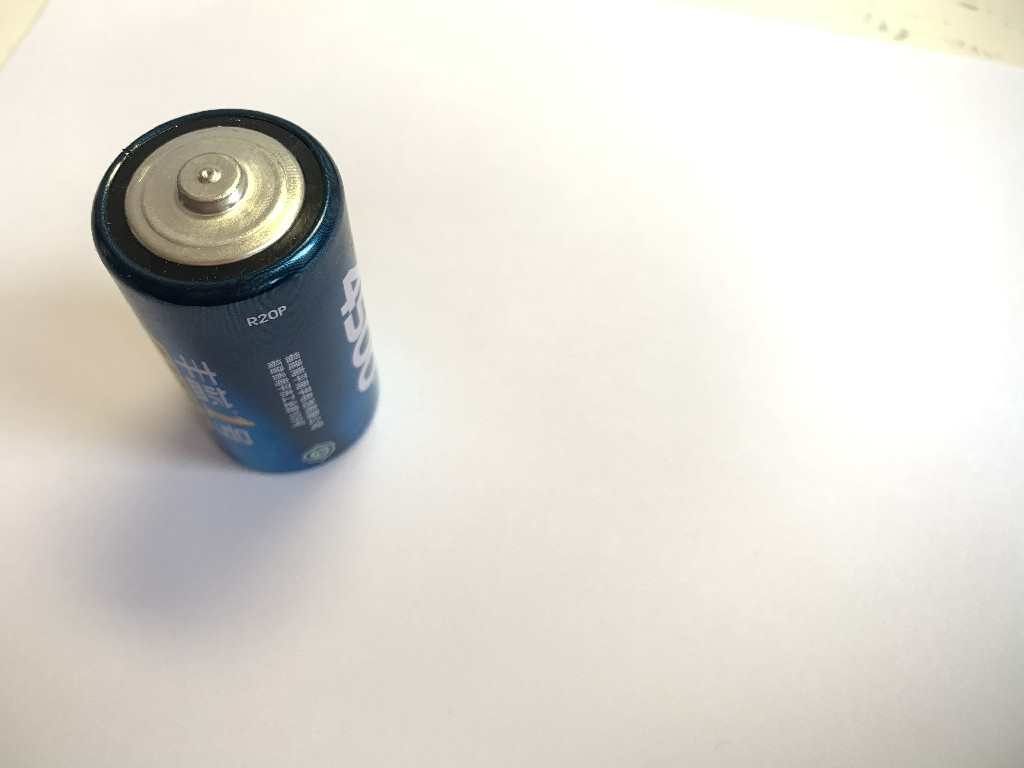charge: (85, 105, 385, 478)
